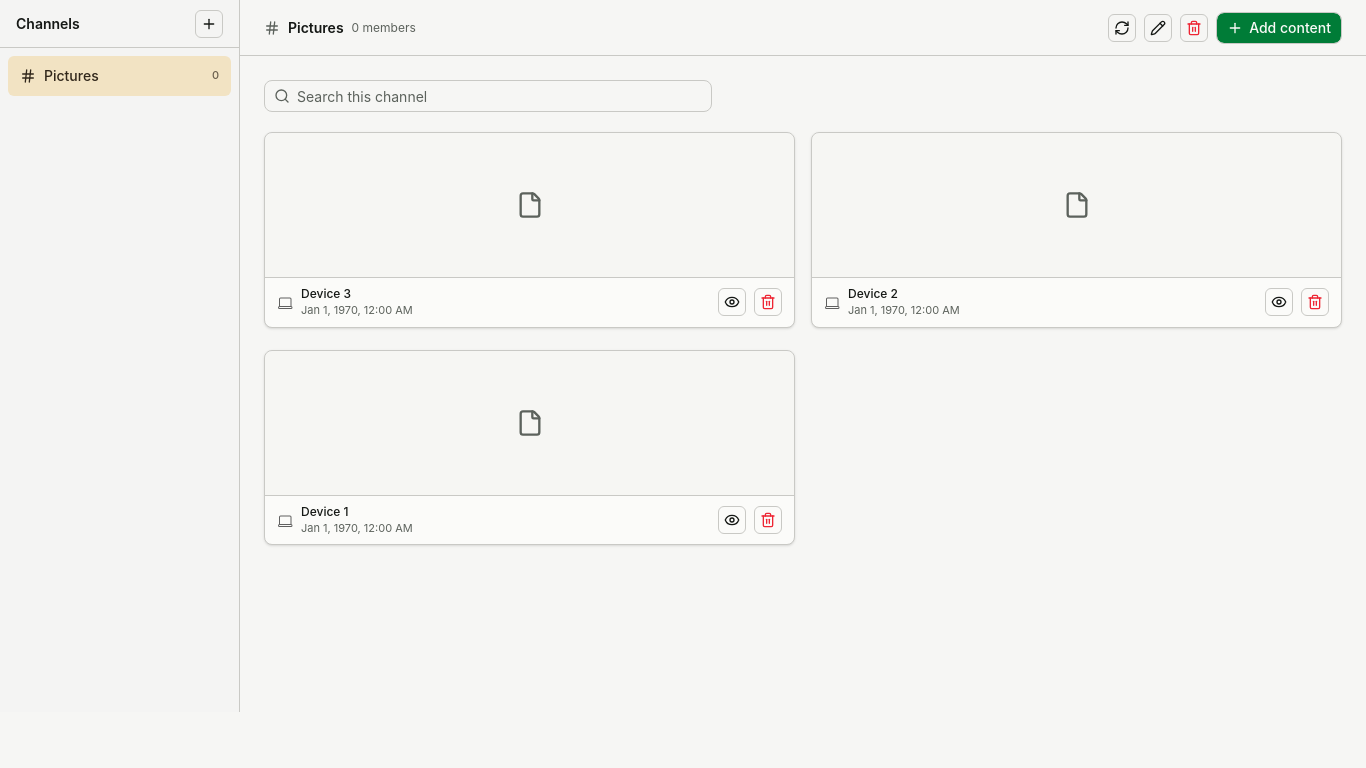
Scenario: loads the next page near the scroll bottom and resets pagination when searching
Expected: the text "Device 2" is shown, [848, 286, 898, 301]
Expected: the text "Device 3" is shown, [301, 286, 351, 301]
Type "later" into the field with placeholder "Search this channel". click: (488, 96)
box: [264, 80, 712, 112]
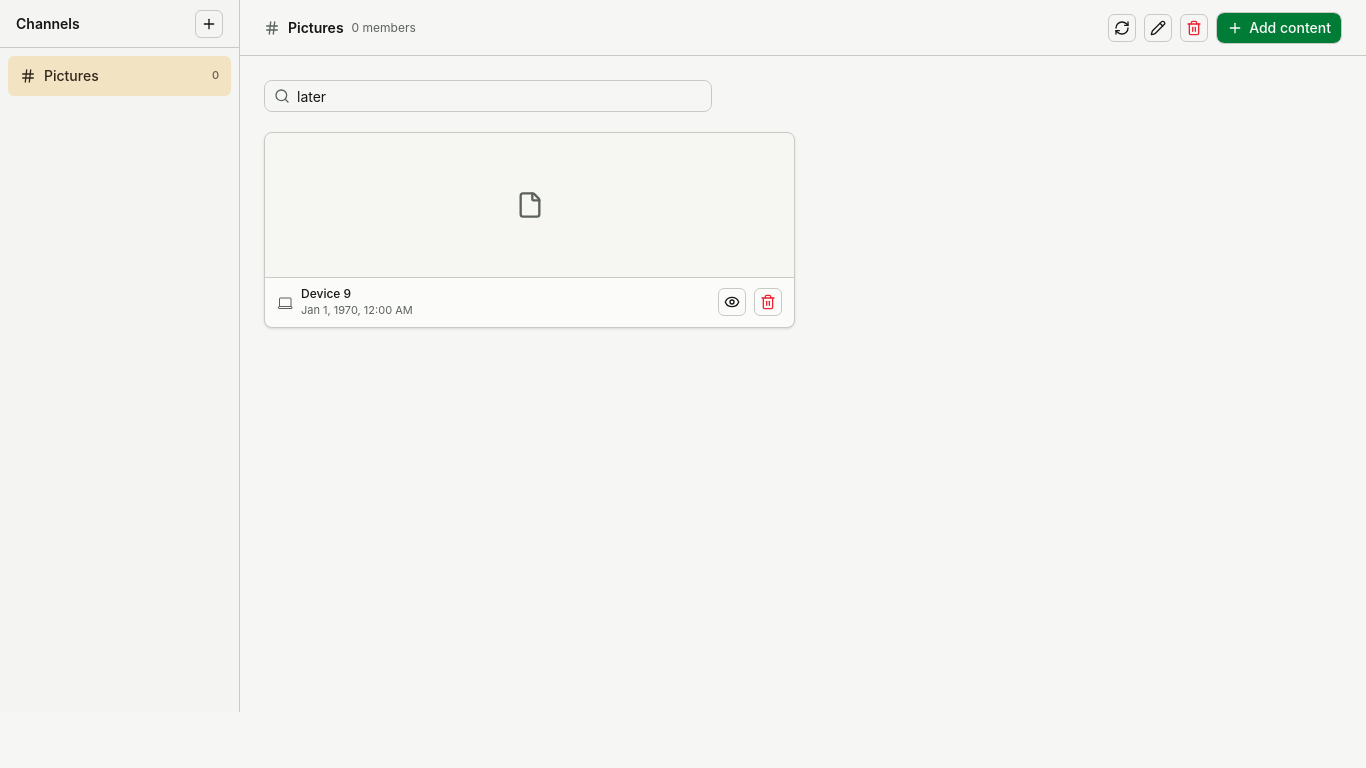
Result: the text "Device 9" is shown at [301, 286, 351, 301]
Result: the text "Device 3" is gone
